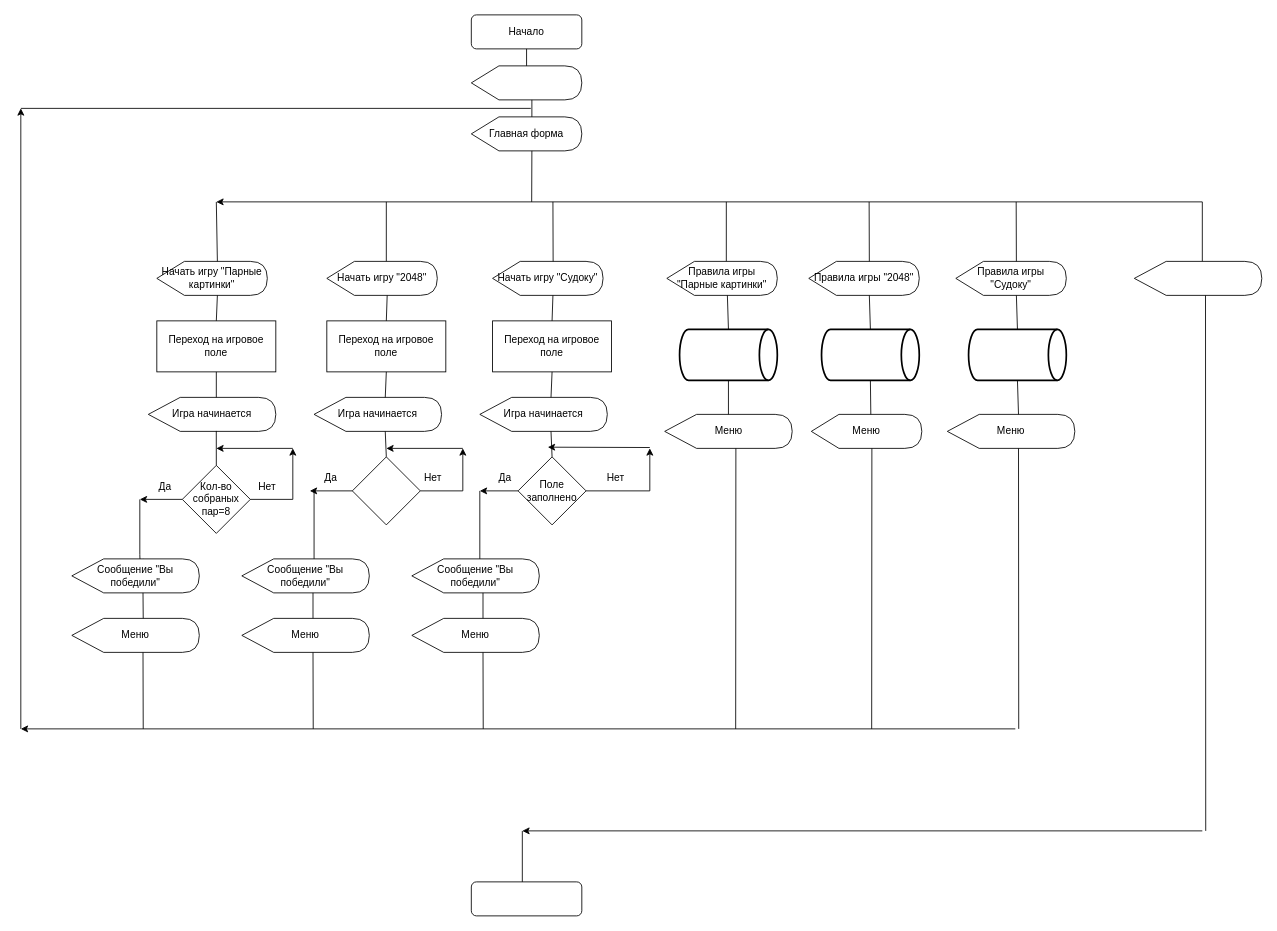
This 1277x931 diagram has some shape labels left out. The shapes that lost their labels are listed below. From the top down, each one's centre as x and y in pixels, then its label:
(526,82): Загрузочный экран
(1197,278): Выход
(728,354): 11111.html
(870,354): 1234.html
(1017,354): 4321.html
(385,490): Кол-во очков=2048
(526,898): Конец
